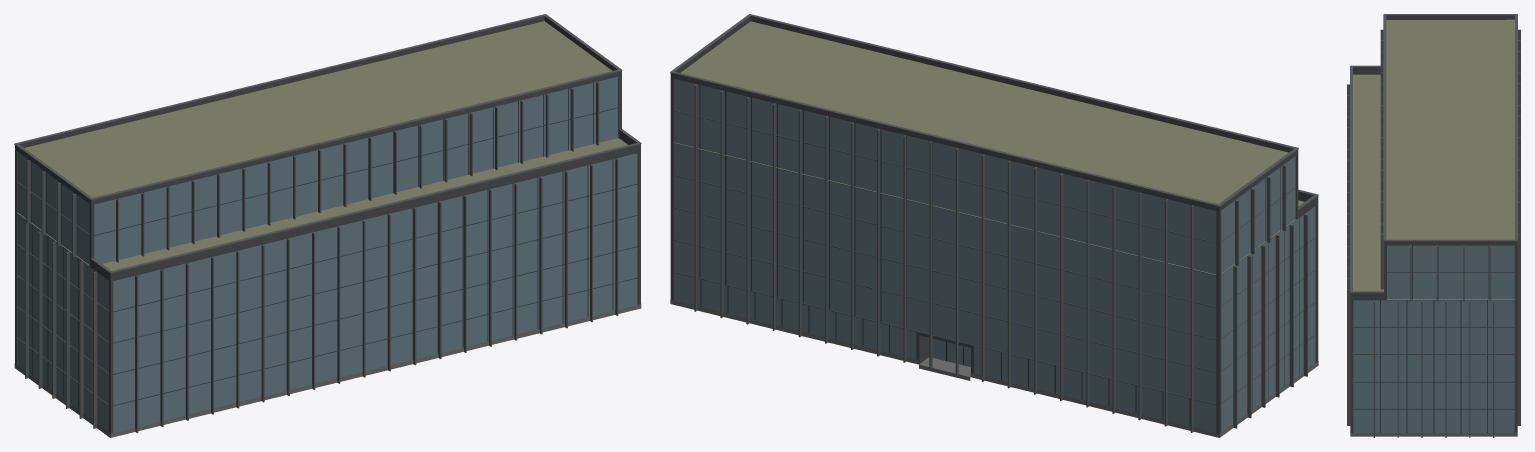
3 views of the same model, side by side, from view 1: azimuth 30°, elevation 25°; view 2: azimuth 150°, elevation 25°; view 3: azimuth 270°, elevation 25° (orthographic). The views are drawn at different scales.
Parts seen in each view (by area): view 1: sciD__glass, sciD__roof, sciD__trim, sciD__parapet, sciD__wall, sciD__frame, sciD__base; view 2: sciD__glass, sciD__roof, sciD__trim, sciD__wall, sciD__parapet, sciD__frame, sciD__base; view 3: sciD__roof, sciD__glass, sciD__trim, sciD__wall, sciD__frame, sciD__parapet, sciD__base.
Boxes of the visible parts, x1,y1,x2,y2 form: sciD__glass: [17, 77, 637, 432]; sciD__roof: [17, 21, 627, 270]; sciD__trim: [14, 14, 641, 432]; sciD__parapet: [15, 16, 640, 281]; sciD__wall: [15, 75, 640, 437]; sciD__frame: [31, 82, 637, 410]; sciD__base: [14, 304, 641, 437]; sciD__glass: [674, 79, 1315, 432]; sciD__roof: [674, 21, 1304, 274]; sciD__trim: [670, 14, 1318, 432]; sciD__wall: [670, 77, 1318, 437]; sciD__parapet: [670, 16, 1318, 217]; sciD__frame: [674, 85, 1299, 425]; sciD__base: [670, 299, 1318, 437]; sciD__roof: [1353, 19, 1514, 299]; sciD__glass: [1353, 245, 1514, 432]; sciD__trim: [1347, 14, 1520, 437]; sciD__wall: [1350, 245, 1517, 432]; sciD__frame: [1353, 245, 1514, 432]; sciD__parapet: [1350, 15, 1517, 299]; sciD__base: [1350, 433, 1517, 436].
Bounding box in the file's own units: 64.71 × 26.2 × 20.74.
